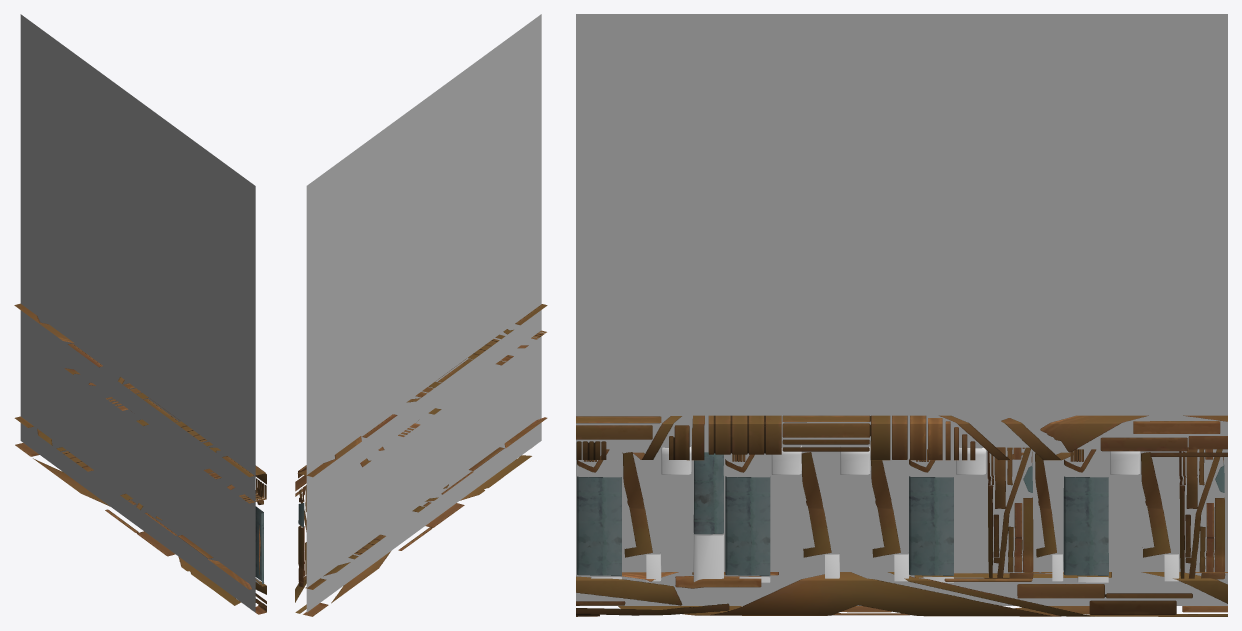
The model's file is Modular_Walls.fbx.
3 renders of one model, left to right at view 1: azimuth 30°, elevation 25°; view 2: azimuth 150°, elevation 25°; view 3: azimuth 270°, elevation 25°, orthographic. The views are drawn at different scales.
Visible parts, largest first — view 1: wall_modular.002, wall_modular; view 2: wall_modular.002, wall_modular; view 3: wall_modular.002, wall_modular.
Boxes of the visible parts, box(x1,y1,x2,y2) form: wall_modular.002: box(20, 14, 255, 612); wall_modular: box(14, 303, 266, 614); wall_modular.002: box(306, 14, 541, 612); wall_modular: box(295, 304, 547, 616); wall_modular.002: box(576, 14, 1227, 605); wall_modular: box(576, 415, 1227, 616).
Size of the model in its own units: 20.84 by 478 by 474.
